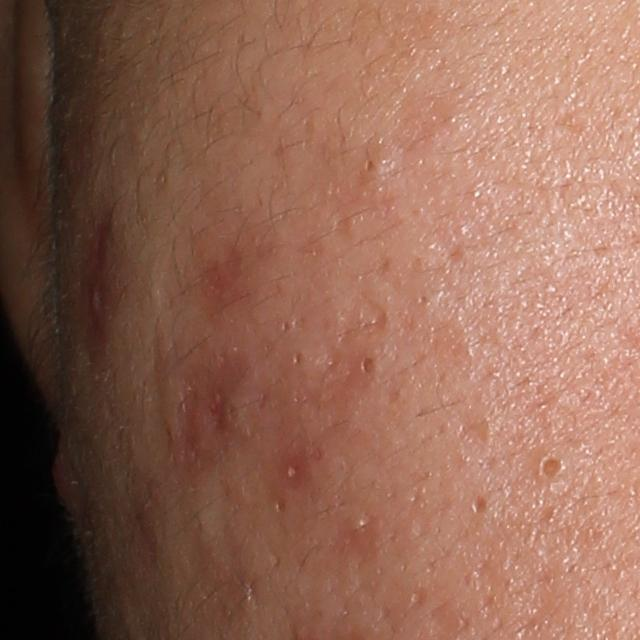atrophic_scar: (171, 336, 251, 477), (332, 290, 391, 347), (450, 401, 493, 473)
comedo: (533, 440, 572, 484), (467, 490, 493, 520), (358, 353, 383, 378), (291, 346, 309, 369), (415, 289, 432, 310)
